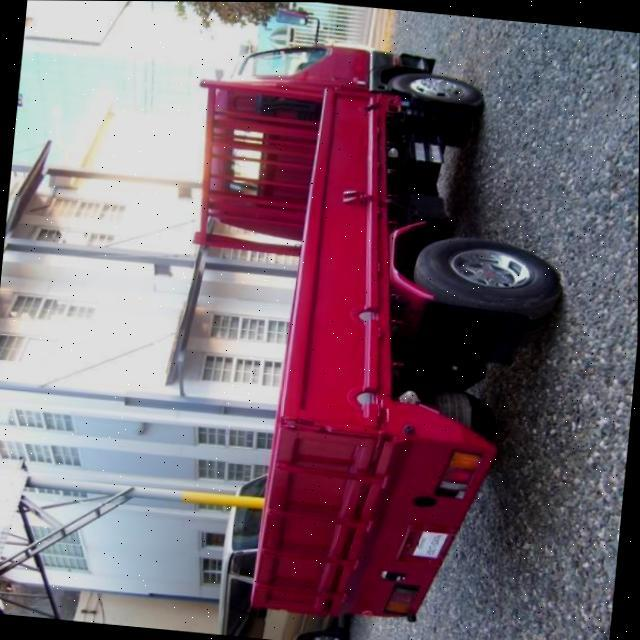truck: (154, 1, 585, 631)
